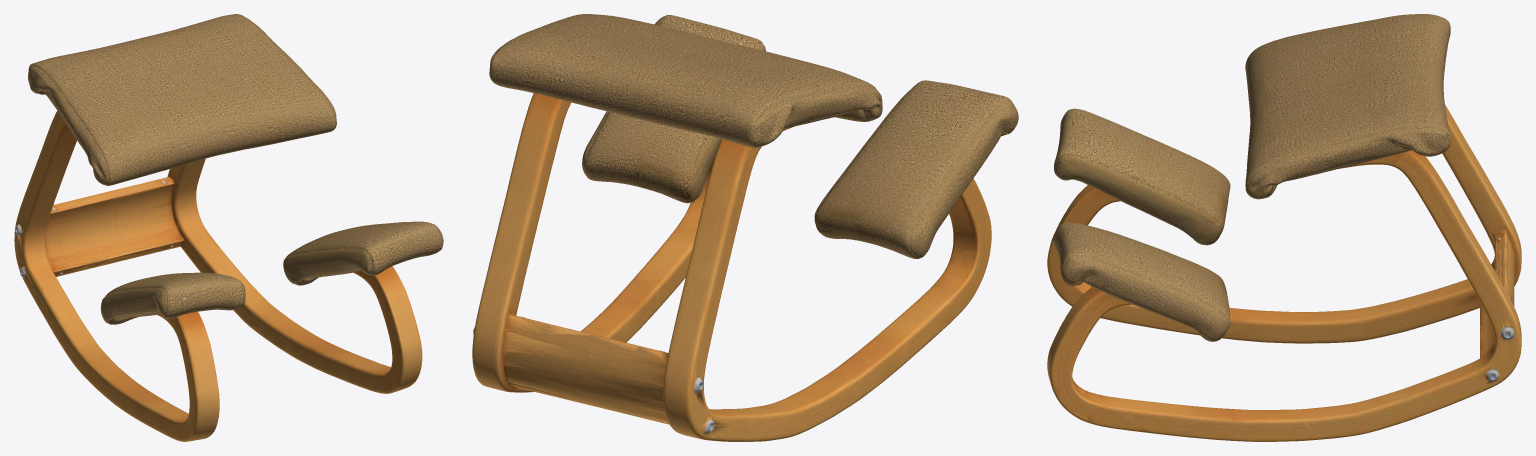
The model's file is balans-variabel.glb.
The picture shows the model from 3 angles, left to right: view 1: azimuth 30°, elevation 25°; view 2: azimuth 150°, elevation 25°; view 3: azimuth 270°, elevation 25°; orthographic projection. The views are drawn at different scales.
Parts seen in each view (by area): view 1: tripo_node_57dadf54-06da-475d-912b-e6a1eb548891; view 2: tripo_node_57dadf54-06da-475d-912b-e6a1eb548891; view 3: tripo_node_57dadf54-06da-475d-912b-e6a1eb548891.
Boxes of the visible parts, x1,y1,x2,y2 form: tripo_node_57dadf54-06da-475d-912b-e6a1eb548891: [14, 14, 443, 441]; tripo_node_57dadf54-06da-475d-912b-e6a1eb548891: [472, 14, 1018, 441]; tripo_node_57dadf54-06da-475d-912b-e6a1eb548891: [1047, 14, 1521, 441].
Size of the model in its own units: 0.5217 by 0.51 by 0.6793.
Materials: 1 (1 with a texture image).
